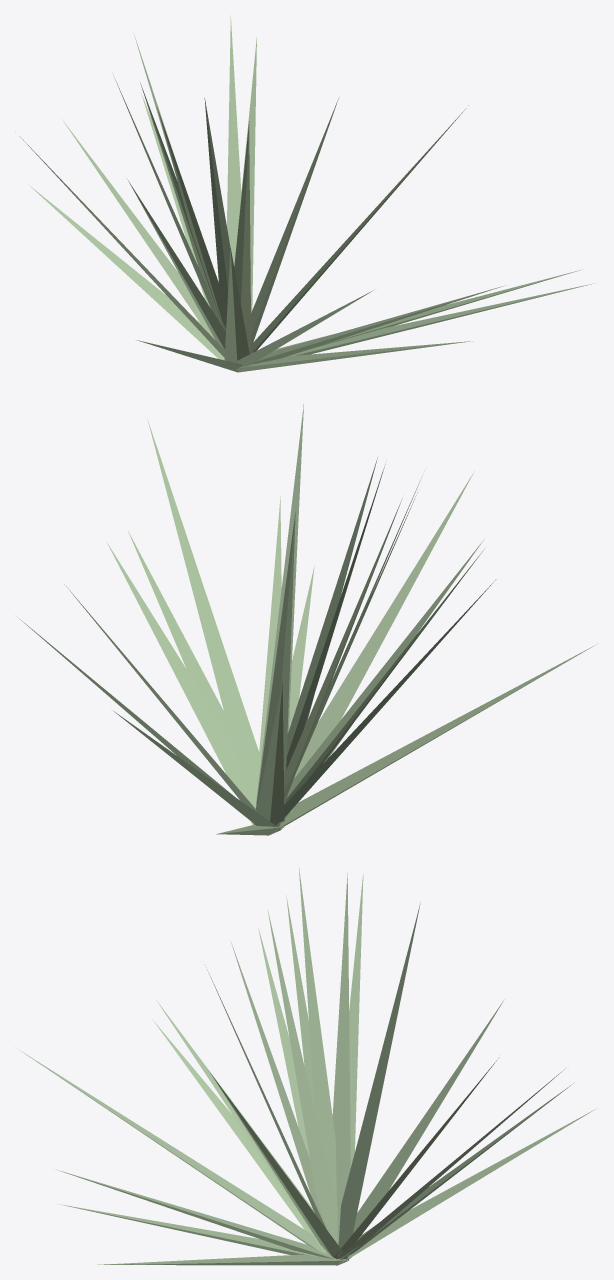
Rendered from yucca.glb.
3 renders of one model, top to bottom at view 1: azimuth 30°, elevation 25°; view 2: azimuth 150°, elevation 25°; view 3: azimuth 270°, elevation 25°, orthographic. The views are drawn at different scales.
Visible parts, largest first — view 1: yucca_yucca; view 2: yucca_yucca; view 3: yucca_yucca.
Boxes of the visible parts, box(x1,y1,x2,y2) form: yucca_yucca: box(19, 15, 595, 372); yucca_yucca: box(19, 404, 596, 835); yucca_yucca: box(18, 865, 596, 1265).
Bounding box in the file's own units: 1.16 × 0.8167 × 1.27.
